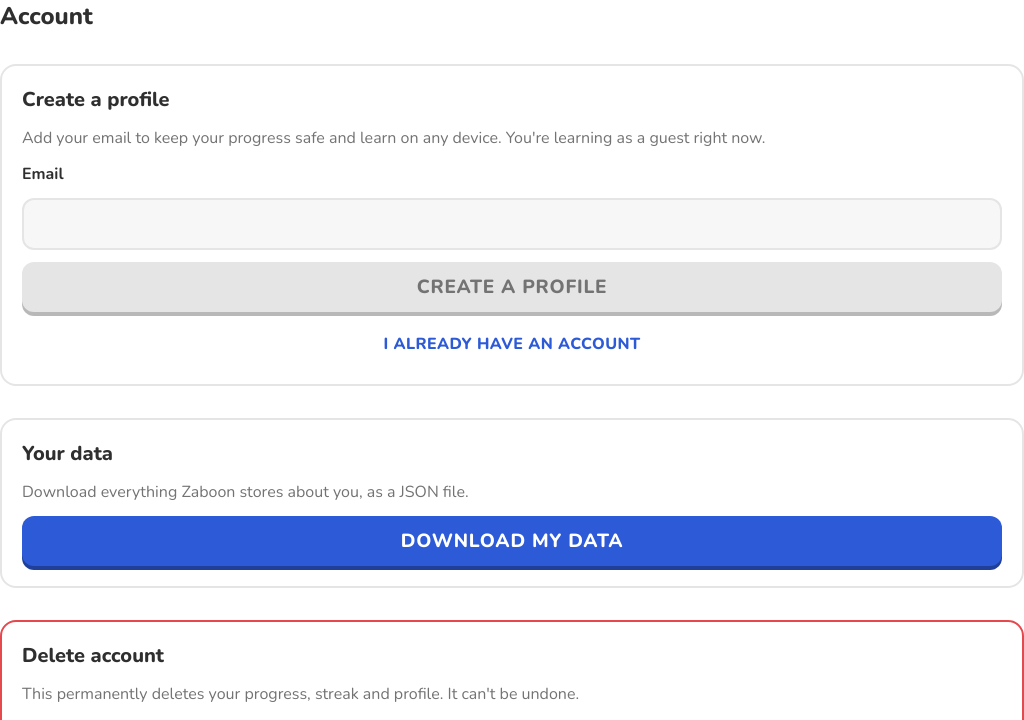
Test: AccountScreen: a guest creates a profile › refuses to switch while the outbox cannot be delivered
This screenshot has width=1024, height=720.
Type "new@example.com" into the field labelled "Email".
click(512, 224); type("new@example.com")  # box [22,198,1002,250]
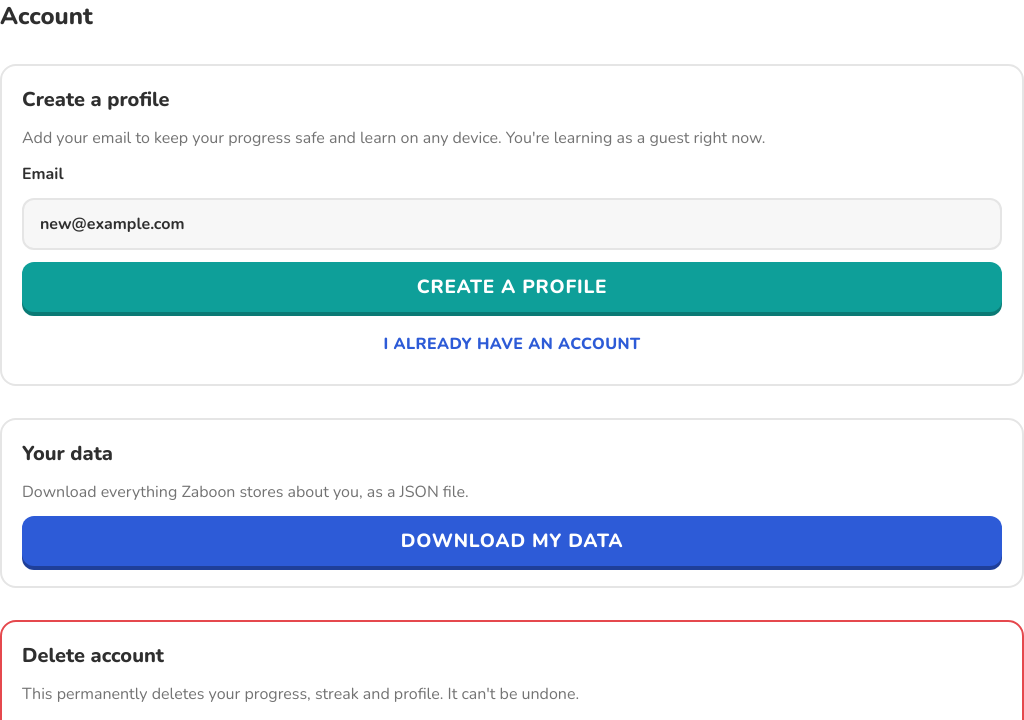
Click the button "Create a profile".
click(512, 287)  # box [22,262,1002,312]
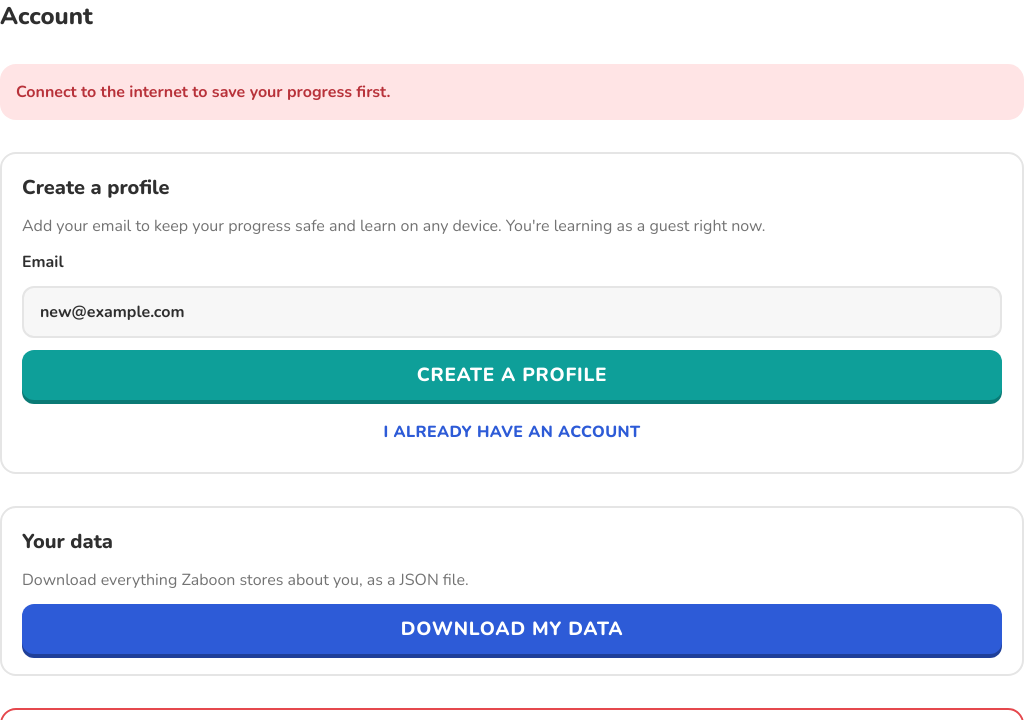
Result: the message reads "Connect to the internet to save your progress first." at [16,81,390,103]
